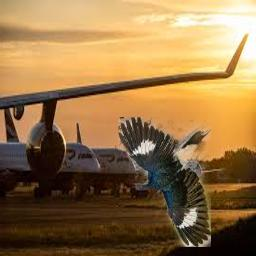Woodpecker: (118, 117, 211, 247)
